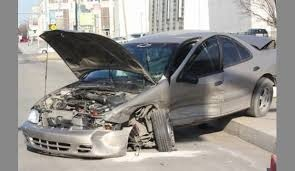Smashed: (85, 88, 193, 151)
